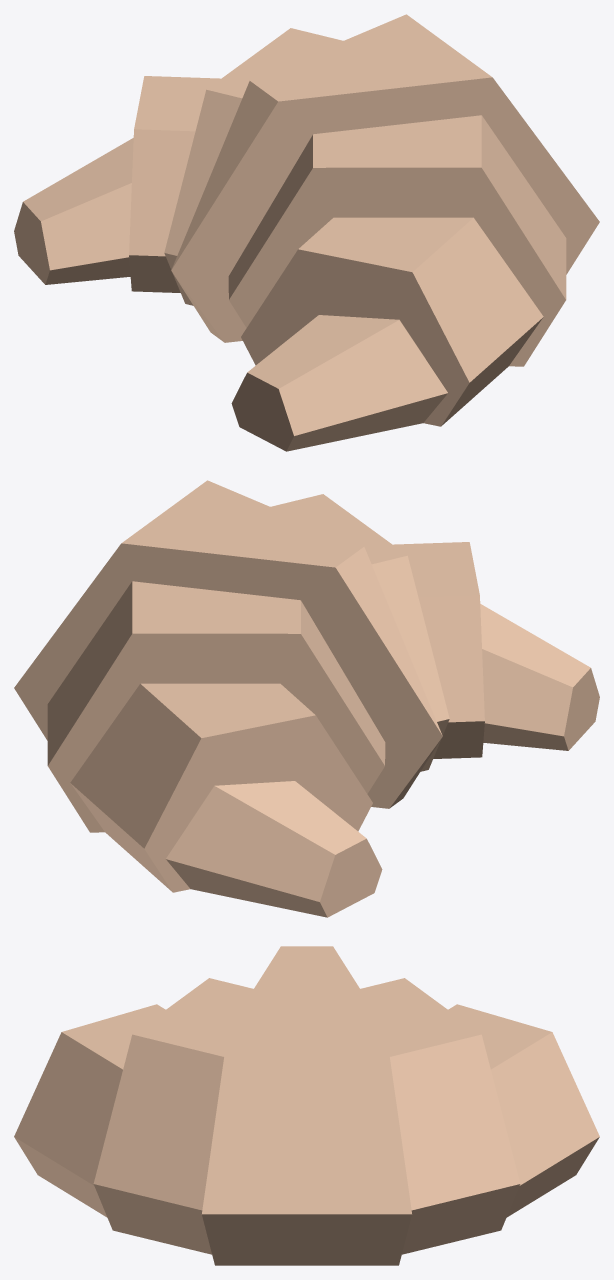
The model's file is croissant.glb.
The picture shows the model from 3 angles, top to bottom: view 1: azimuth 30°, elevation 25°; view 2: azimuth 150°, elevation 25°; view 3: azimuth 270°, elevation 25°; orthographic projection. The views are drawn at different scales.
Visible parts, largest first — view 1: croissant; view 2: croissant; view 3: croissant.
Part boxes in pixels (bbox=[...]): croissant: bbox=[14, 14, 599, 451]; croissant: bbox=[14, 480, 599, 917]; croissant: bbox=[14, 946, 599, 1265].
Size of the model in its own units: 0.3461 by 0.1937 by 0.4777.
